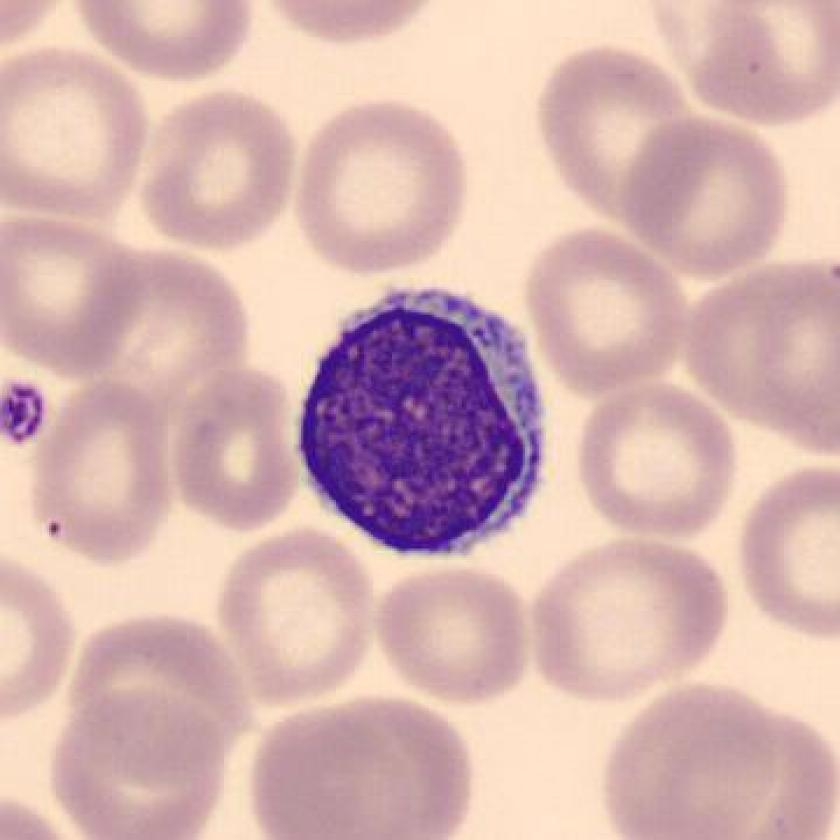lymphocyte: (286, 276, 561, 566)
